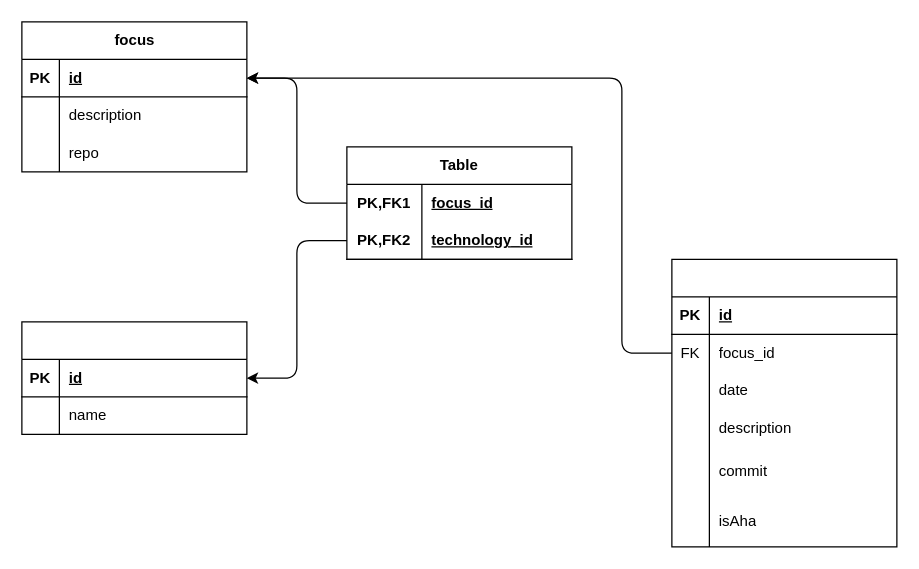
Image size: 919x569. Some labels were removed from this diagram. The box of each missing label's shape, as (x1, y1, x2, y2) in pixels:
entry: (671, 258, 897, 547)
technology: (21, 321, 247, 434)
